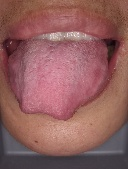tongue: (6, 45, 108, 122)
